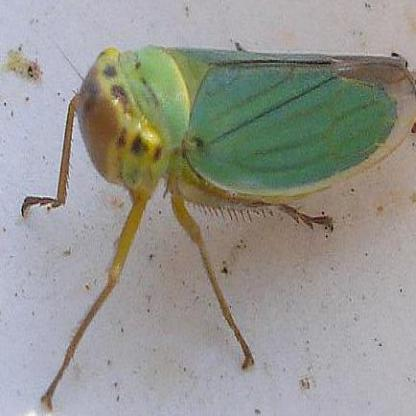Green-Leafhopper: (23, 36, 416, 416)
